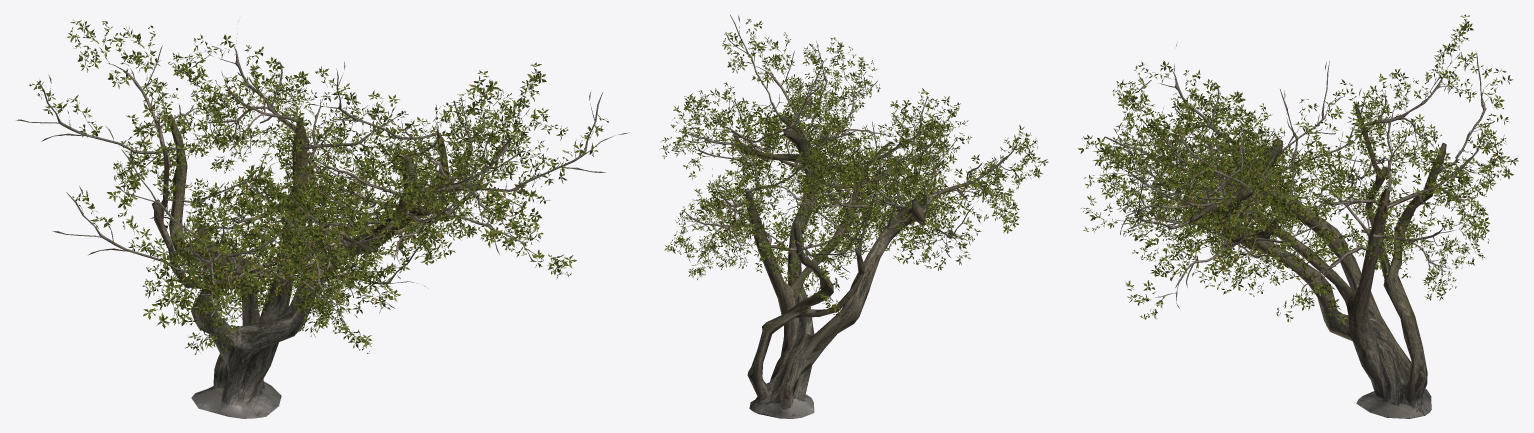
Rendered from island_tree_02_lod.glb.
3 views of the same model, side by side, from view 1: azimuth 30°, elevation 25°; view 2: azimuth 150°, elevation 25°; view 3: azimuth 270°, elevation 25° (orthographic). The views are drawn at different scales.
Parts seen in each view (by area): view 1: island_tree_02_LOD0; view 2: island_tree_02_LOD0; view 3: island_tree_02_LOD0.
Boxes of the visible parts, x1,y1,x2,y2 form: island_tree_02_LOD0: (16,19,628,418); island_tree_02_LOD0: (659,14,1048,418); island_tree_02_LOD0: (1078,14,1518,418).
Bounding box in the file's own units: 4.21 × 3.4 × 4.07.
Materials: 3 (3 with a texture image).
